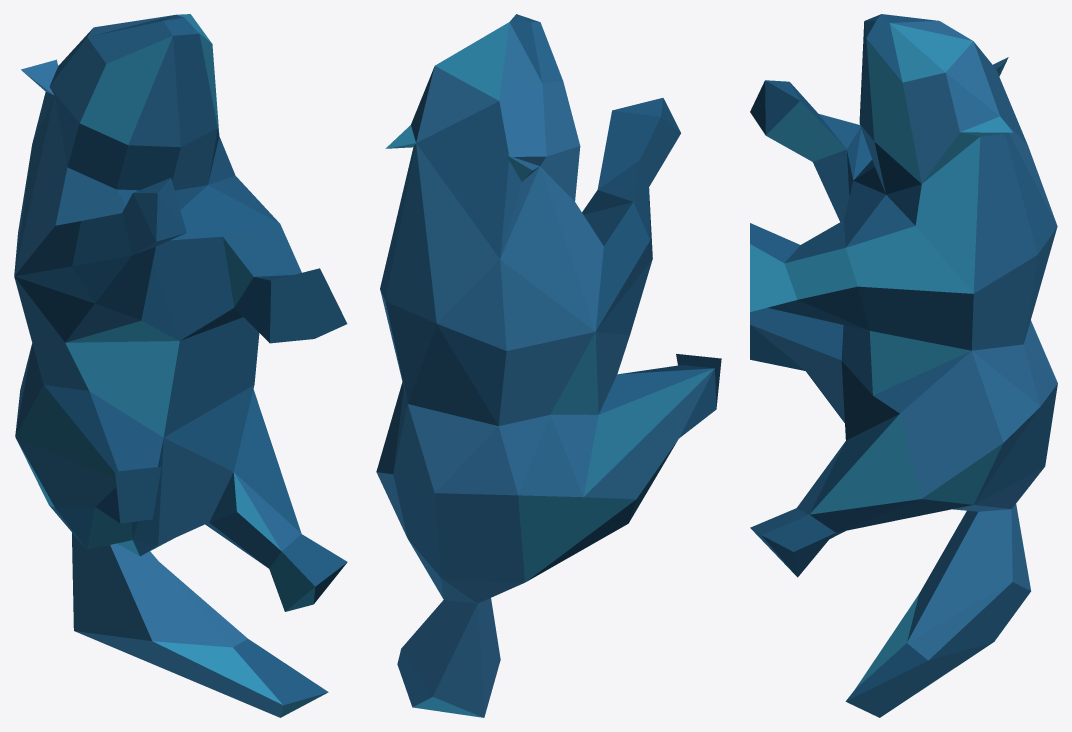
The model's file is statue_13_1.fbx.
3 renders of one model, left to right at view 1: azimuth 30°, elevation 25°; view 2: azimuth 150°, elevation 25°; view 3: azimuth 270°, elevation 25°, orthographic. The views are drawn at different scales.
Visible parts, largest first — view 1: statue_13_1; view 2: statue_13_1; view 3: statue_13_1.
Boxes of the visible parts, x1,y1,x2,y2 form: statue_13_1: [14, 14, 347, 717]; statue_13_1: [376, 14, 721, 717]; statue_13_1: [750, 14, 1057, 717].
Bounding box in the file's own units: 77.74 × 202 × 86.26.
